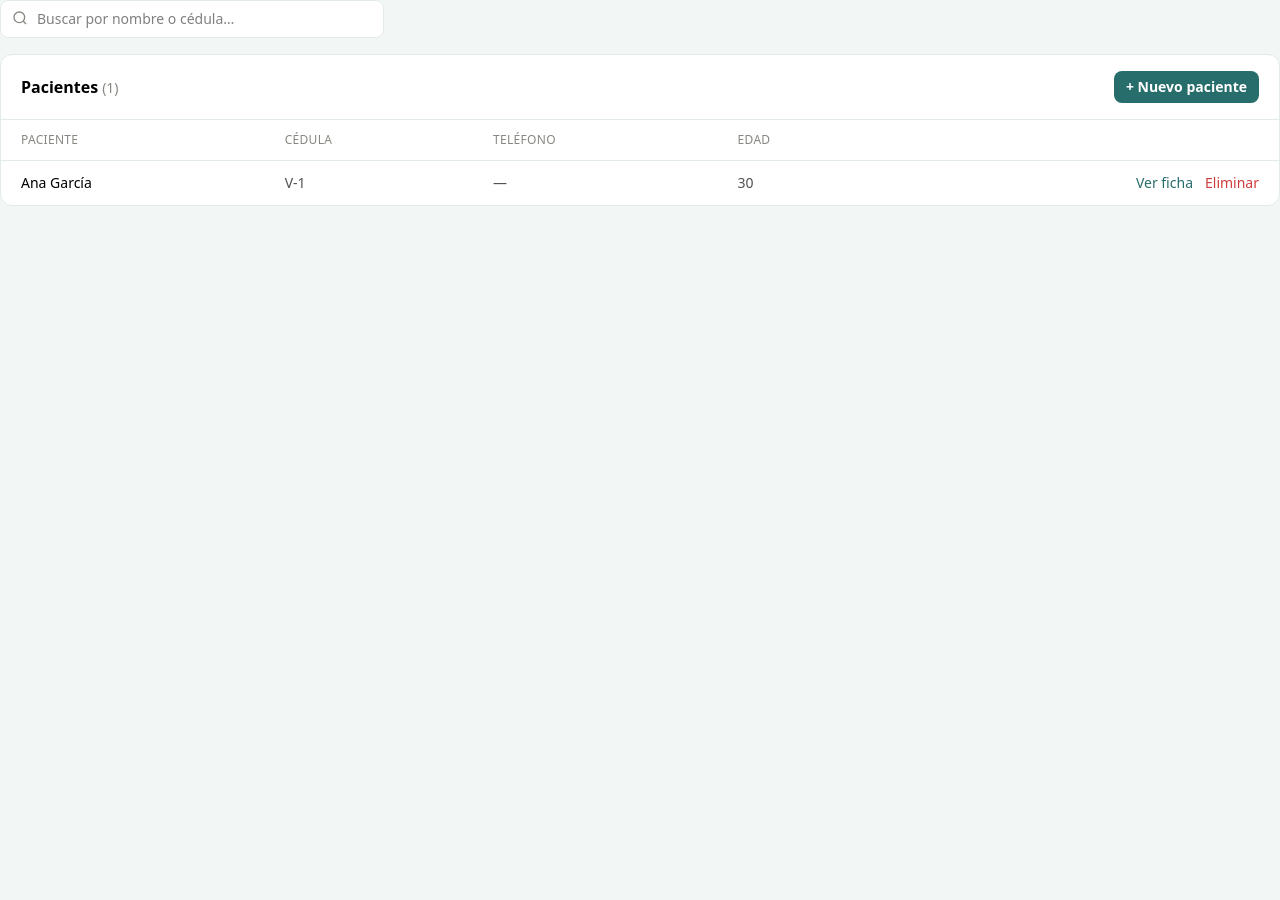
PatientsPage — erasing a patient › warns that erasing cannot be undone
Click the button "Eliminar" at (1232, 183), box [1205,173,1259,193]
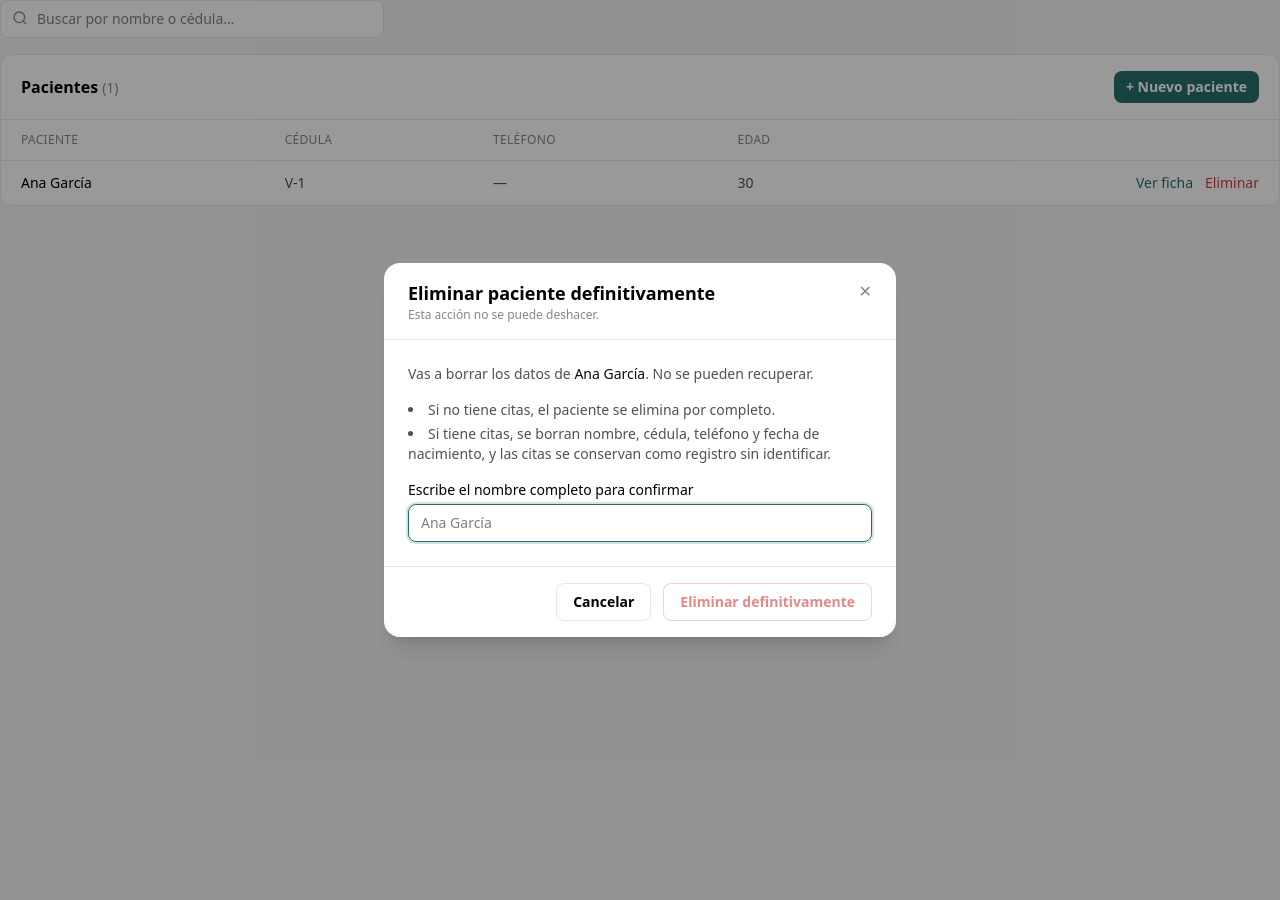
Expected: the text "Esta acción no se puede deshacer." is shown, [408,306,599,323]
